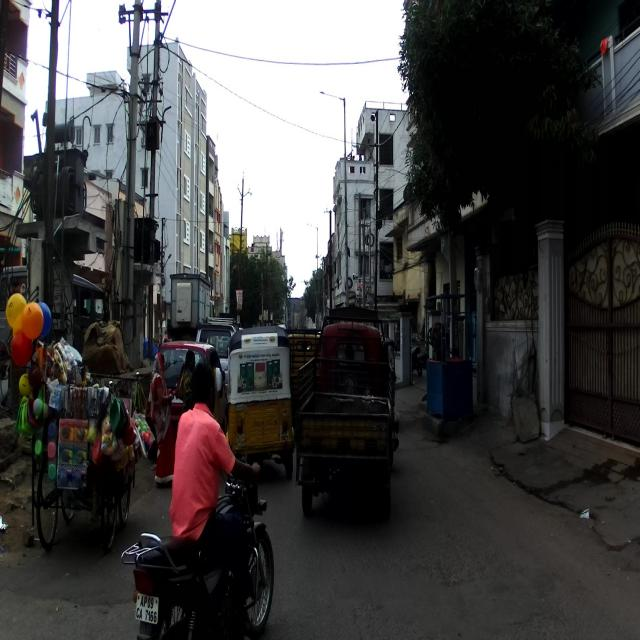autorickshaw: (294, 304, 404, 518), (224, 325, 297, 480)
motorcycle_Hero: (120, 450, 275, 638)
